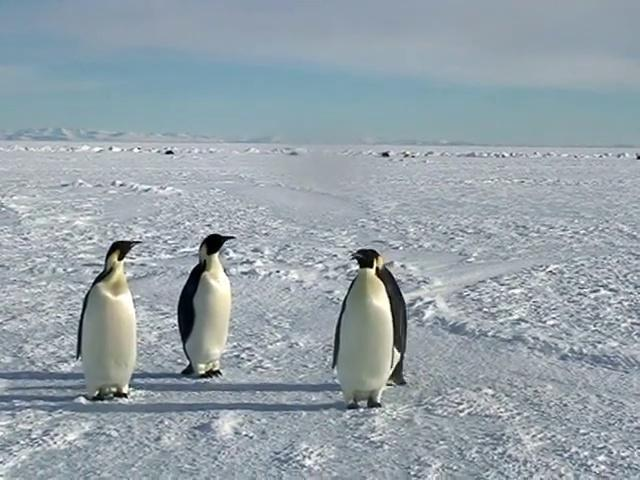animal: (332, 249, 406, 407)
